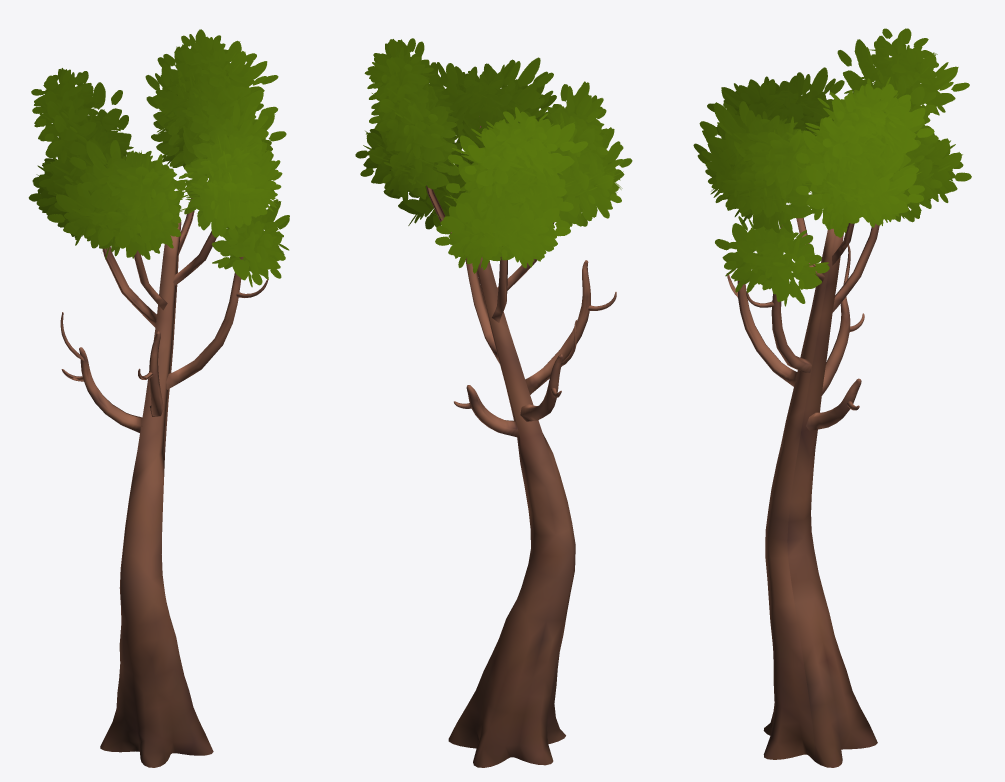
The model's file is laubbaum_c.glb.
3 views of the same model, side by side, from view 1: azimuth 30°, elevation 25°; view 2: azimuth 150°, elevation 25°; view 3: azimuth 270°, elevation 25° (orthographic). The views are drawn at different scales.
Visible parts, largest first — view 1: baum; view 2: baum; view 3: baum.
Part boxes in pixels (left/top/right/bottom): baum: left=28, top=29, right=289, bottom=767; baum: left=355, top=38, right=632, bottom=767; baum: left=693, top=28, right=971, bottom=767.
Size of the model in its own units: 3.83 by 9.44 by 3.76.
2 materials, 1 textured.
